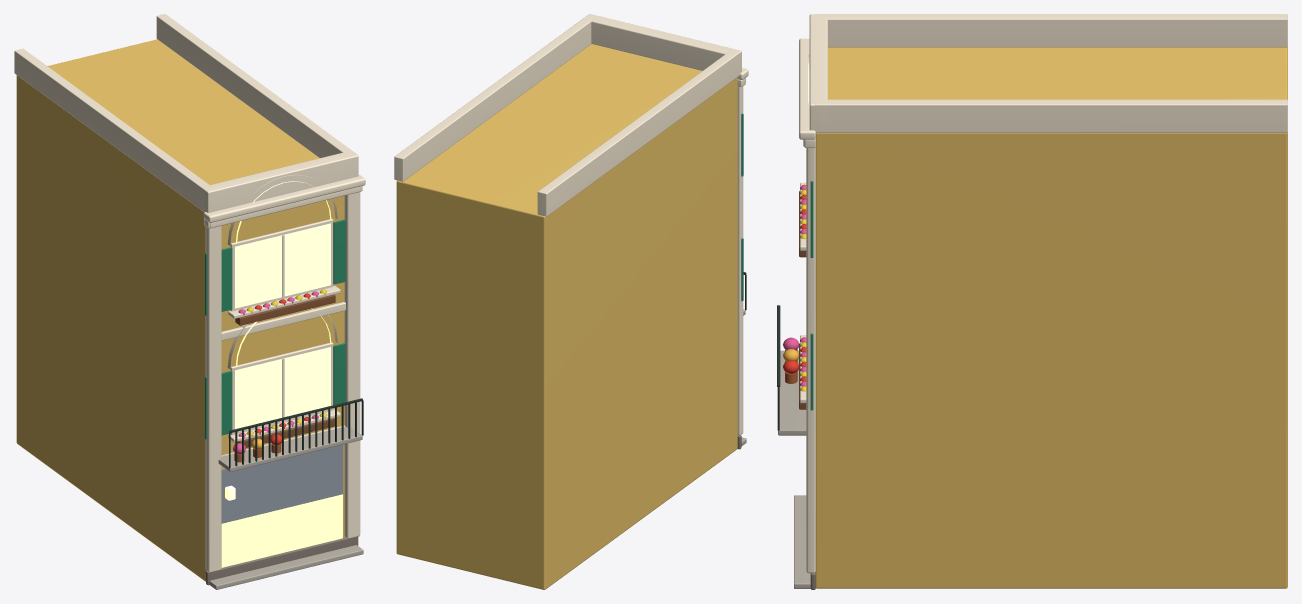
The model's file is house_3f.glb.
3 views of the same model, side by side, from view 1: azimuth 30°, elevation 25°; view 2: azimuth 150°, elevation 25°; view 3: azimuth 270°, elevation 25° (orthographic). The views are drawn at different scales.
Parts seen in each view (by area): view 1: Shell, Shutter, ParapetS, W2Glass, ParapetS2, W1Glass, Pil-0.06, Inside, Pil3.7, Parapet, B1Slab, Cornice (+15 smaller); view 2: Shell, ParapetS, ParapetS2, Parapet, Pil-0.06; view 3: Shell, ParapetS2, ParapetS, Pil3.7, Parapet, B1Slab, Step, Cornice.
Part boxes in pixels (left/top/right/bottom): Shell: left=16, top=39, right=344, bottom=581; Shutter: left=221, top=444, right=343, bottom=523; ParapetS: left=14, top=48, right=209, bottom=212; W2Glass: left=235, top=223, right=330, bottom=308; ParapetS2: left=156, top=14, right=356, bottom=157; W1Glass: left=235, top=347, right=330, bottom=431; Pil-0.06: left=205, top=226, right=221, bottom=572; Inside: left=221, top=494, right=342, bottom=567; Pil3.7: left=344, top=192, right=360, bottom=538; Parapet: left=201, top=150, right=358, bottom=212; B1Slab: left=218, top=426, right=362, bottom=471; Cornice: left=203, top=175, right=365, bottom=222; Shell: left=396, top=44, right=737, bottom=589; ParapetS: left=537, top=50, right=739, bottom=216; ParapetS2: left=394, top=15, right=591, bottom=181; Parapet: left=584, top=14, right=741, bottom=73; Pil-0.06: left=737, top=81, right=743, bottom=435; Shell: left=815, top=47, right=1287, bottom=588; ParapetS2: left=815, top=99, right=1287, bottom=132; ParapetS: left=815, top=14, right=1287, bottom=47; Pil3.7: left=806, top=147, right=815, bottom=573; Parapet: left=809, top=14, right=827, bottom=131; B1Slab: left=778, top=350, right=806, bottom=435; Step: left=794, top=495, right=810, bottom=588; Cornice: left=799, top=38, right=815, bottom=139.
Bounding box in the file's own units: 4.24 × 10.2 × 9.72.
